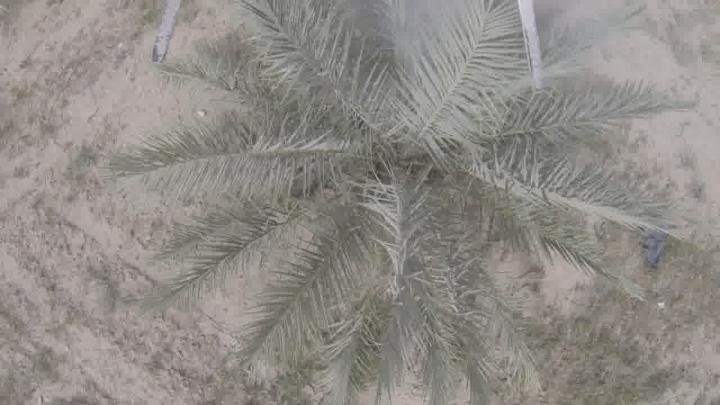Date-Palm-Crown: (247, 33, 536, 271)
